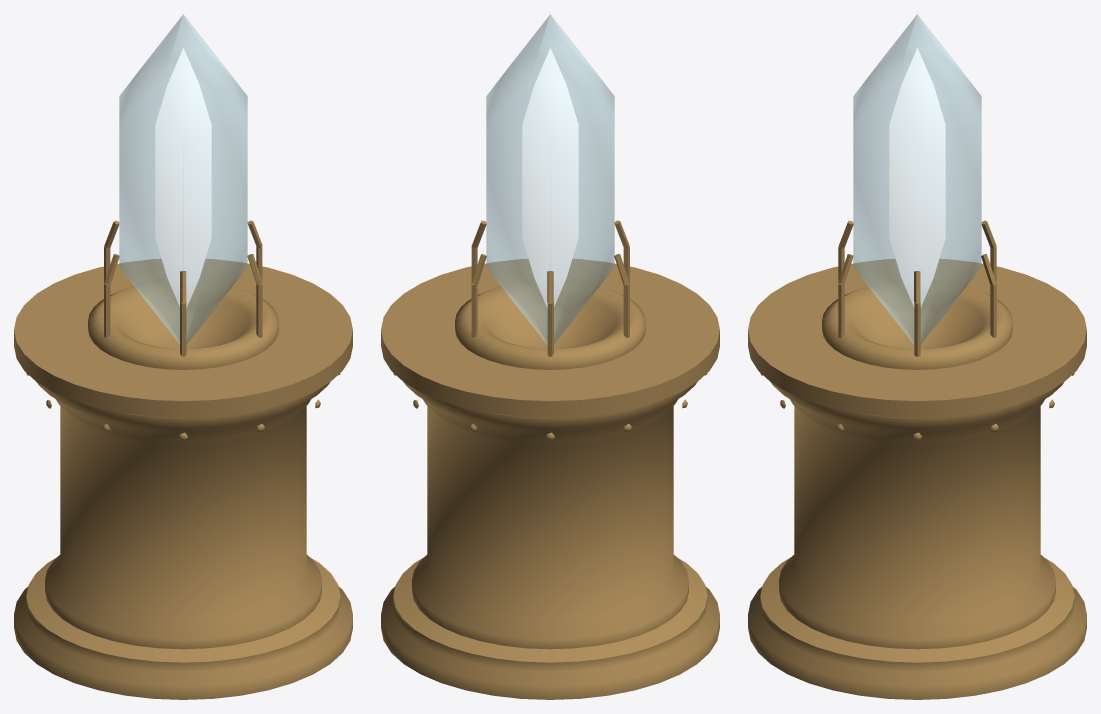
The model's file is core_crystal.glb.
3 renders of one model, left to right at view 1: azimuth 30°, elevation 25°; view 2: azimuth 150°, elevation 25°; view 3: azimuth 270°, elevation 25°, orthographic.
Parts seen in each view (by area): view 1: core_pedestal, core_shell, core_light; view 2: core_pedestal, core_shell, core_light; view 3: core_pedestal, core_shell, core_light.
Part boxes in pixels (x1,y1,x2,y2): core_pedestal: (14, 220, 352, 699); core_shell: (119, 14, 247, 344); core_light: (155, 48, 211, 307); core_pedestal: (381, 220, 719, 699); core_shell: (486, 14, 614, 344); core_light: (522, 48, 578, 307); core_pedestal: (748, 220, 1086, 699); core_shell: (853, 14, 981, 344); core_light: (889, 48, 945, 307).
Bounding box in the file's own units: 1.1 × 2.2 × 1.1.
